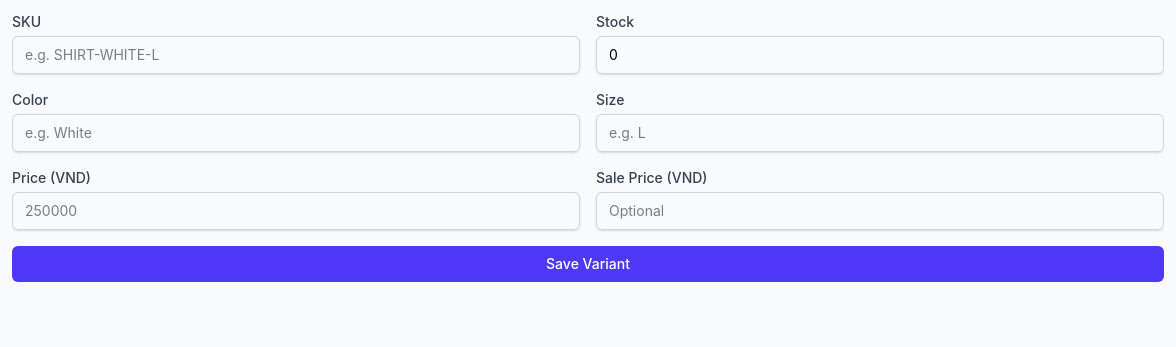
Test: VariantForm › should show validation error when SKU is empty
Click the button "Save Variant": x=588, y=264 [12,246,1164,282]
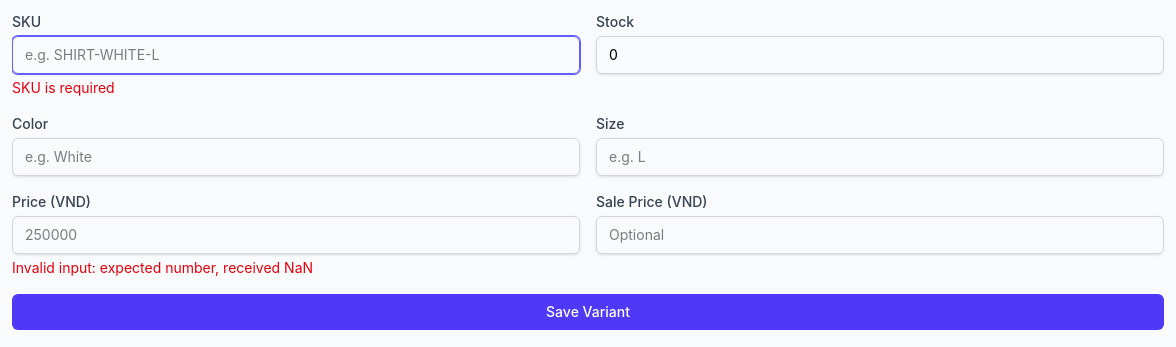
Result: the text "SKU is required" is shown at [12,79,115,96]
